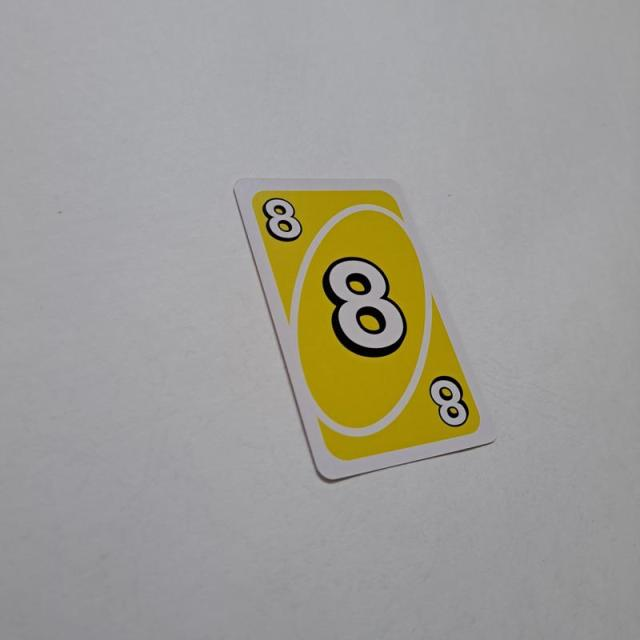Number_8: (259, 191, 308, 246)
Yellow_Card: (246, 186, 485, 466)
